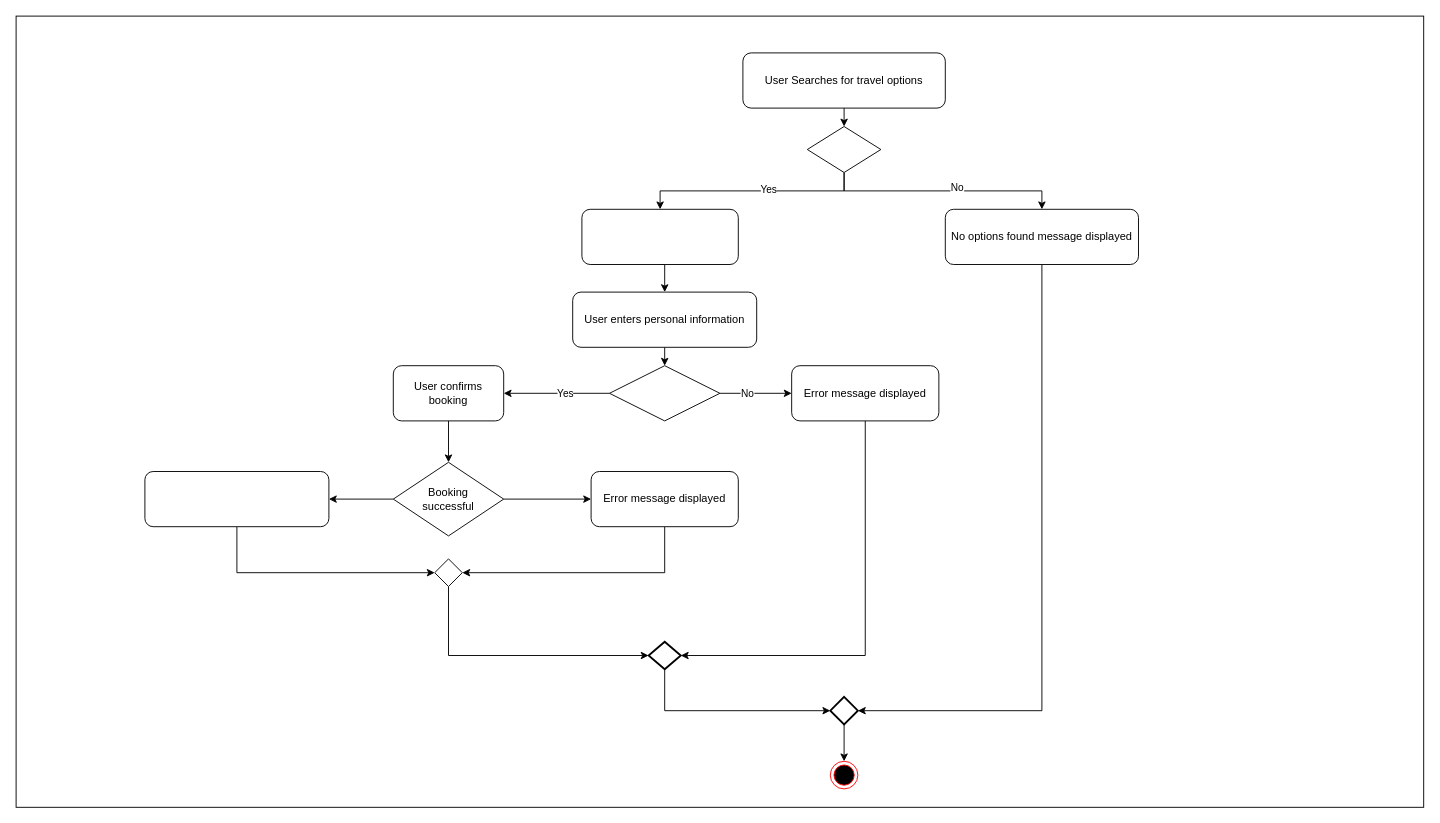
This 1440x823 diagram has some shape labels left out. Here are the shapes that lost their labels. From the top down, the centre of each, then its label:
point 843,149: options found?
point 659,236: User selects preferred option
point 664,393: Valid information?
point 236,499: Confirmation page displayed
